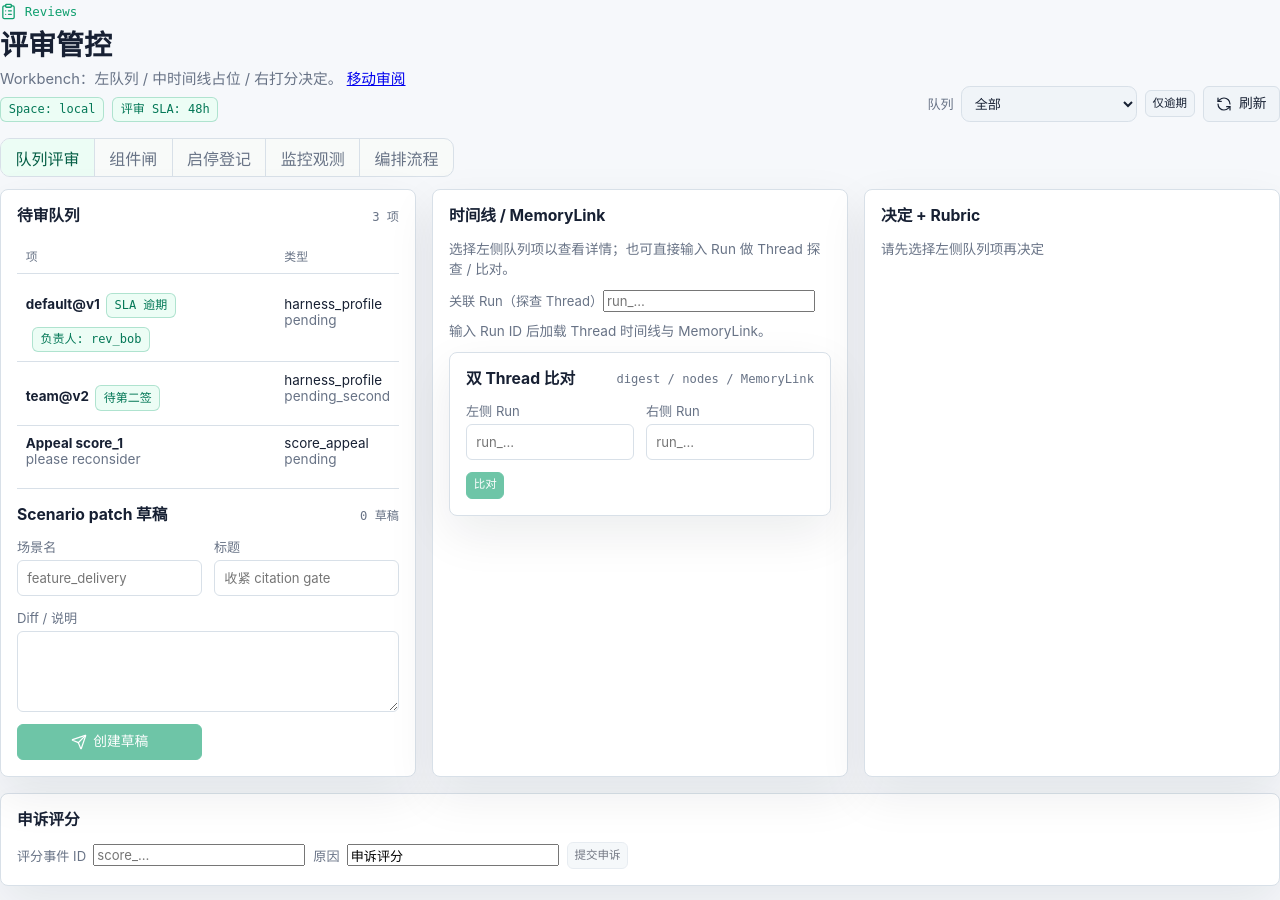
Test case: ReviewsPage › shows SLA breach badge and filters overdue only
The image size is (1280, 900).
expect the text with test id "review-sla-breach-badge" reads "SLA 逾期": met, box top-left (114, 298), bottom-right (167, 312)
expect the text "default@v1" is shown: met, box top-left (26, 296), bottom-right (100, 312)
Click the button with test id "reviews-filter-overdue": coordinates (1170, 104) top-left (1145, 90), bottom-right (1195, 118)
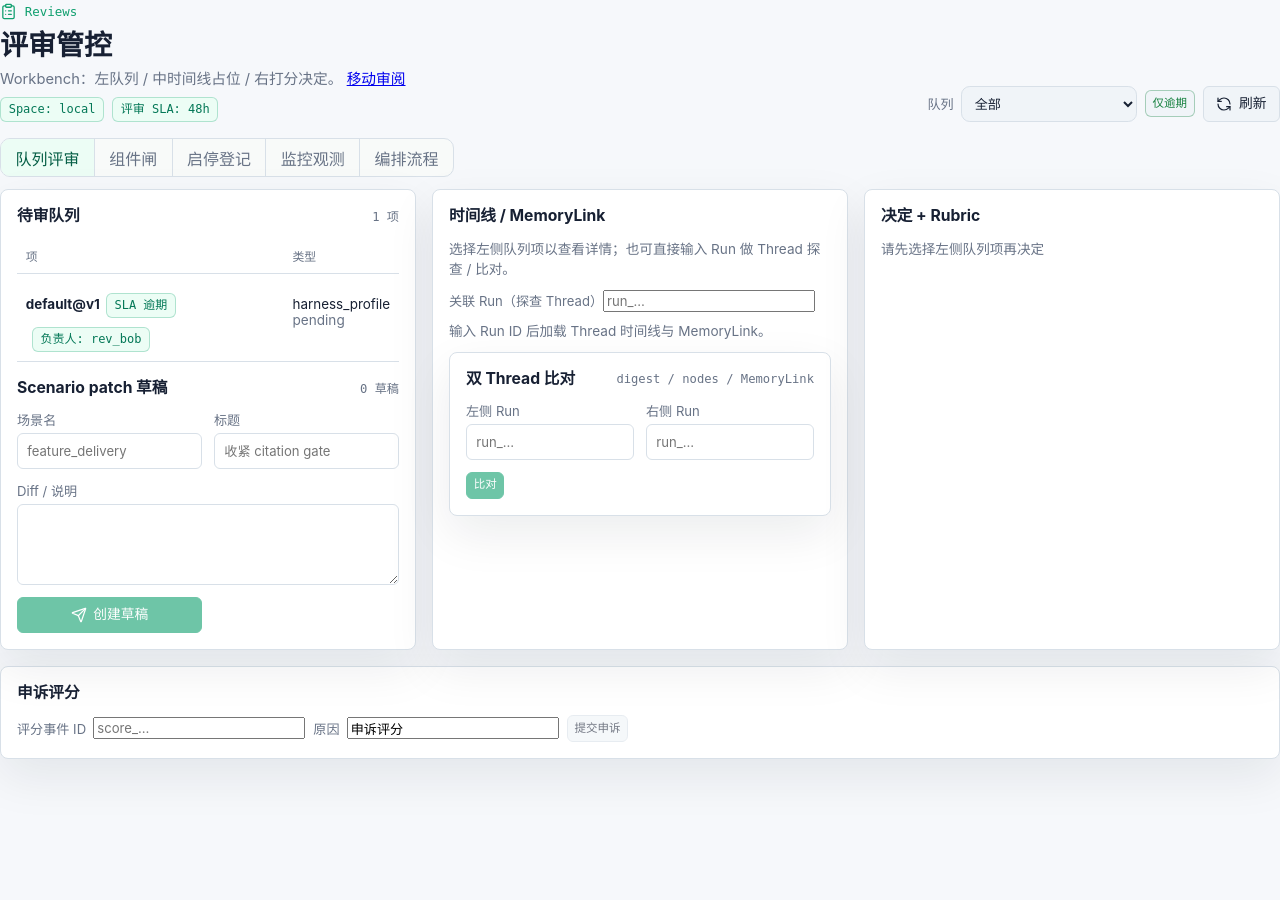
expect the text "default@v1" is shown: met, box top-left (26, 296), bottom-right (100, 312)
expect the text "team@v2" is gone: met
